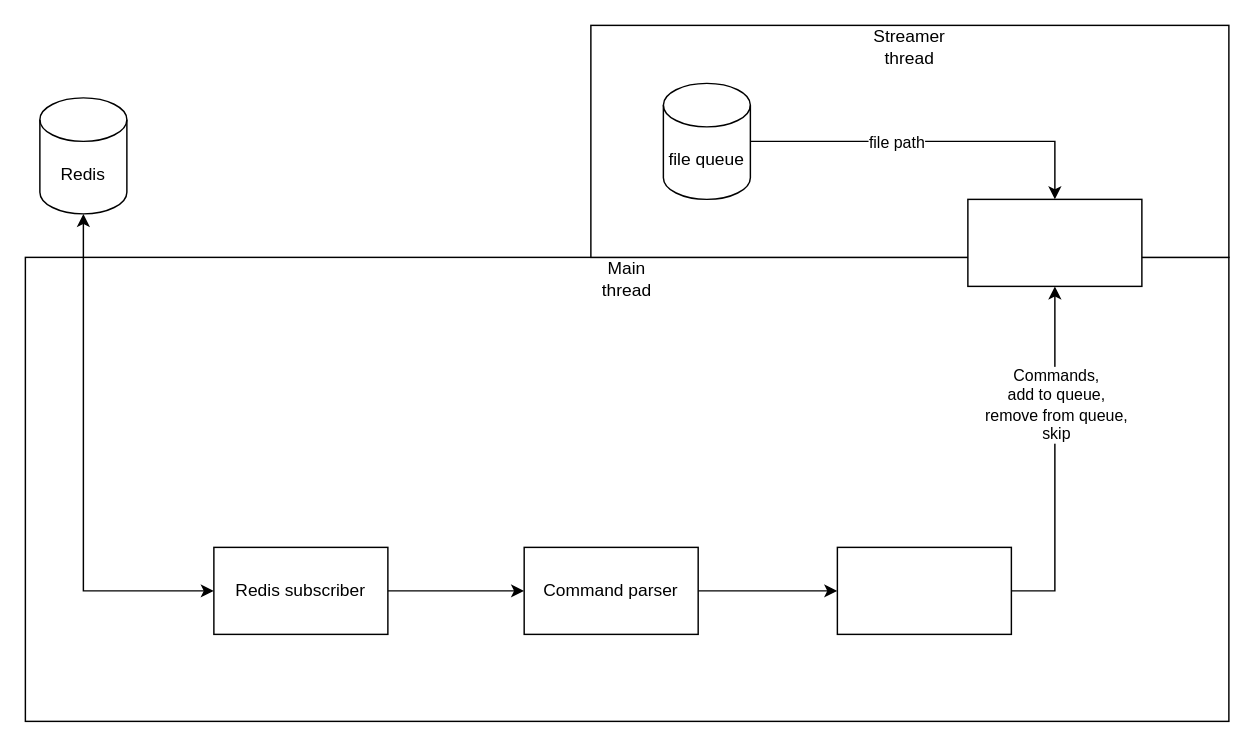
This 1254x747 diagram has some shape labels left out. Each missing label, with the box of its shape:
Action dispatcher: (836, 546, 1011, 634)
Streamer: (966, 198, 1142, 286)
